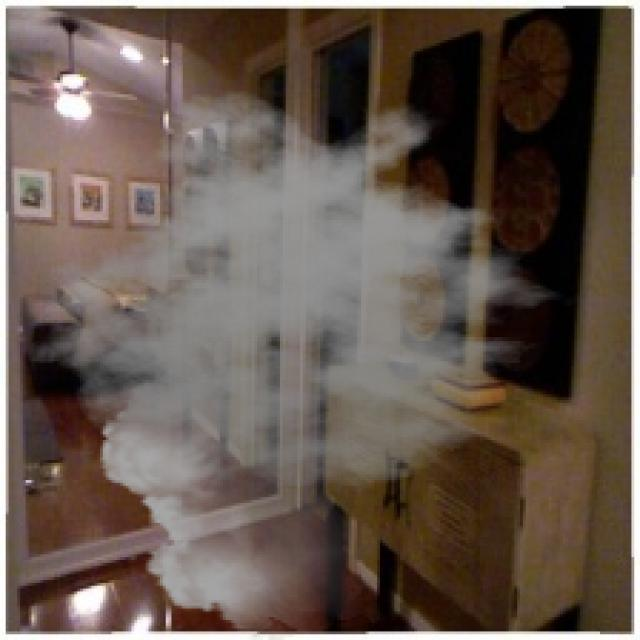Smoke: (29, 88, 588, 638)
